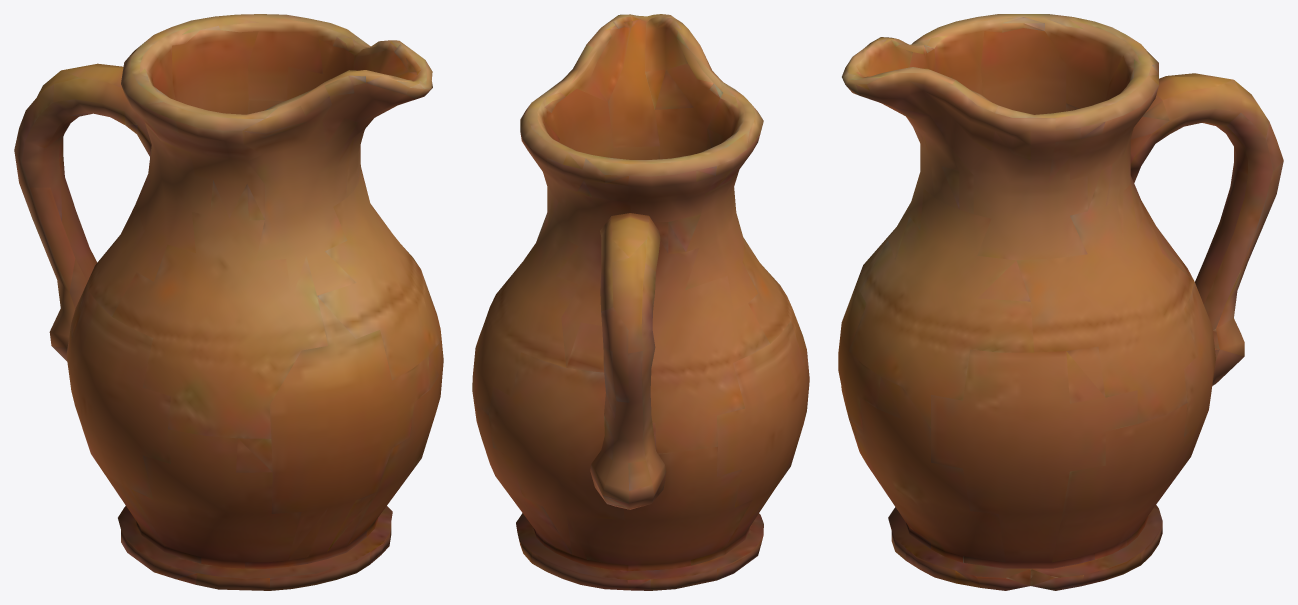
Rendered from wyn_furn_water_jug.glb.
3 views of the same model, side by side, from view 1: azimuth 30°, elevation 25°; view 2: azimuth 150°, elevation 25°; view 3: azimuth 270°, elevation 25° (orthographic). The views are drawn at different scales.
Visible parts, largest first — view 1: tripo_node_cf01a4af-5c15-4186-ac24-61350bc04447; view 2: tripo_node_cf01a4af-5c15-4186-ac24-61350bc04447; view 3: tripo_node_cf01a4af-5c15-4186-ac24-61350bc04447.
Boxes of the visible parts, x1,y1,x2,y2 form: tripo_node_cf01a4af-5c15-4186-ac24-61350bc04447: [14, 14, 443, 590]; tripo_node_cf01a4af-5c15-4186-ac24-61350bc04447: [472, 14, 809, 590]; tripo_node_cf01a4af-5c15-4186-ac24-61350bc04447: [838, 14, 1283, 590].
Bounding box in the file's own units: 0.2126 × 0.32 × 0.2532.
Materials: 1 (1 with a texture image).
